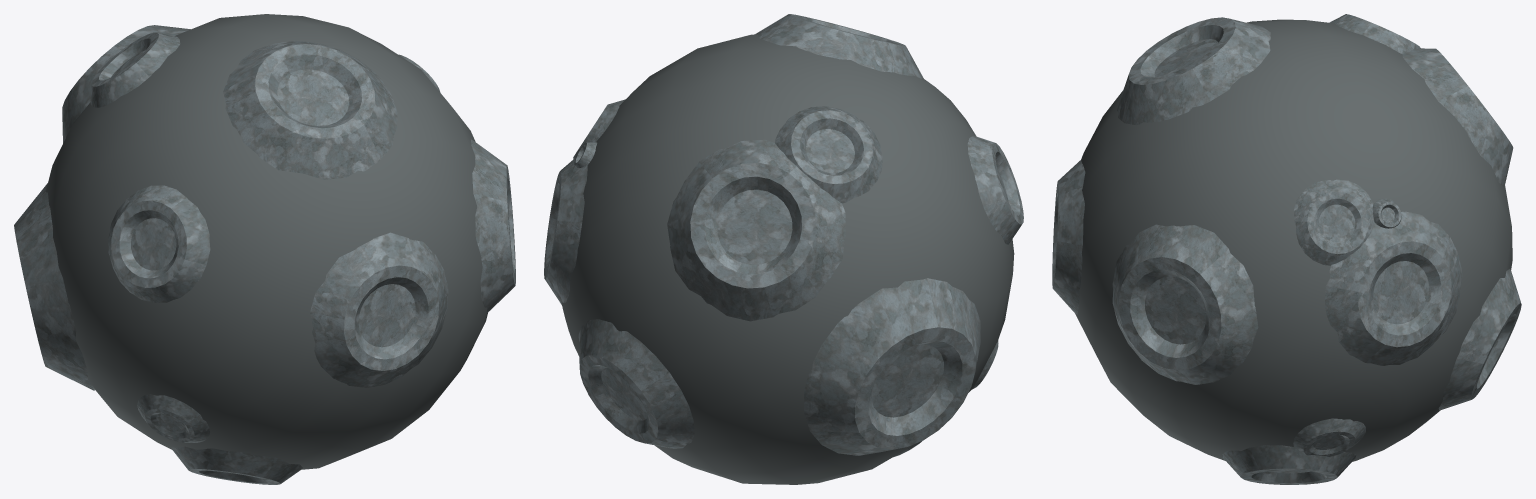
The model's file is Moon.fbx.
The picture shows the model from 3 angles, left to right: view 1: azimuth 30°, elevation 25°; view 2: azimuth 150°, elevation 25°; view 3: azimuth 270°, elevation 25°; orthographic projection. The views are drawn at different scales.
Visible parts, largest first — view 1: mergedBlocks; view 2: mergedBlocks; view 3: mergedBlocks.
Part boxes in pixels (x1,y1,x2,y2): mergedBlocks: [14, 14, 515, 484]; mergedBlocks: [544, 14, 1023, 484]; mergedBlocks: [1052, 14, 1521, 484].
Size of the model in its own units: 31.87 by 30.77 by 31.27.
2 materials, 2 textured.
